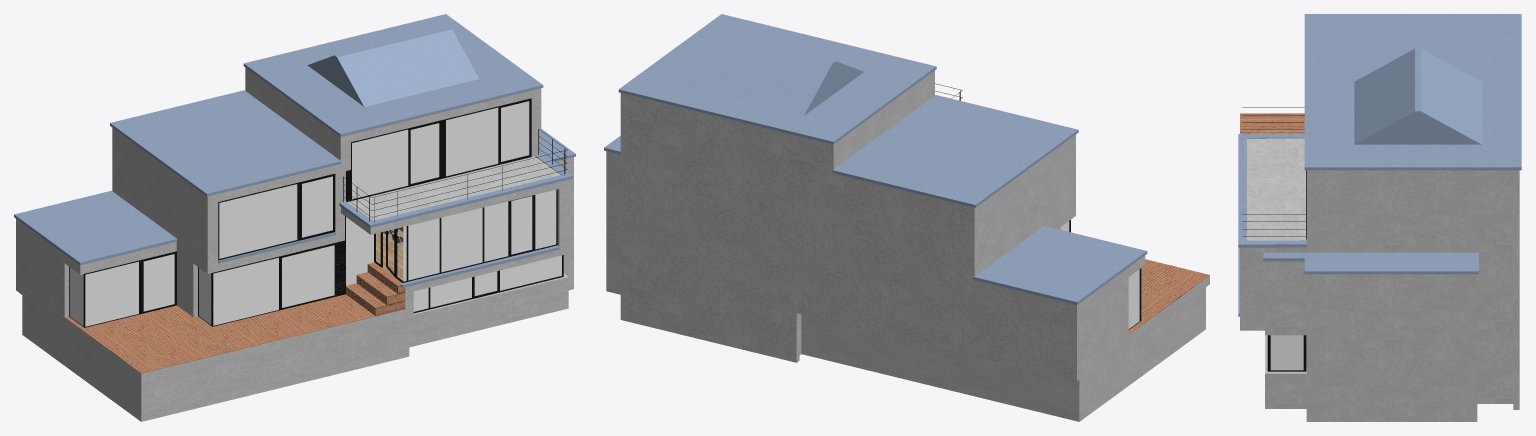
The model's file is house_base_textured.gltf.
The picture shows the model from 3 angles, left to right: view 1: azimuth 30°, elevation 25°; view 2: azimuth 150°, elevation 25°; view 3: azimuth 270°, elevation 25°; orthographic projection. The views are drawn at different scales.
Parts seen in each view (by area): view 1: rooftops, windows_glasses, base, foundation, wooden_inside-outside, windows_bases, balkony, main_floor, base_back; view 2: base_back, rooftops, foundation, base, wooden_inside-outside, windows_glasses; view 3: base, rooftops, base_back, wooden_inside-outside, windows_glasses, balkony, windows_bases.
Boxes of the visible parts, box(x1,y1,x2,y2) form: rooftops: box(14, 14, 575, 287); windows_glasses: box(69, 101, 561, 326); base: box(19, 70, 573, 381); foundation: box(22, 295, 409, 421); wooden_inside-outside: box(65, 262, 405, 373); windows_bases: box(69, 98, 563, 327); balkony: box(343, 129, 567, 222); main_floor: box(376, 229, 403, 280); base_back: box(16, 67, 248, 292); base_back: box(620, 93, 1079, 381); rooftops: box(604, 14, 1147, 304); foundation: box(801, 287, 1205, 421); base: box(606, 70, 1209, 378); wooden_inside-outside: box(1128, 259, 1209, 334); windows_glasses: box(1060, 221, 1139, 328); base: box(1240, 138, 1513, 421); rooftops: box(1238, 14, 1521, 316); base_back: box(1513, 170, 1519, 409); wooden_inside-outside: box(1240, 113, 1304, 133); windows_glasses: box(1270, 335, 1303, 370); balkony: box(1242, 107, 1306, 236); windows_bases: box(1267, 170, 1306, 371).
Size of what is drawn, in the model's own units: 43.96 by 22.35 by 20.77.
Materials: 11 (10 with a texture image).
